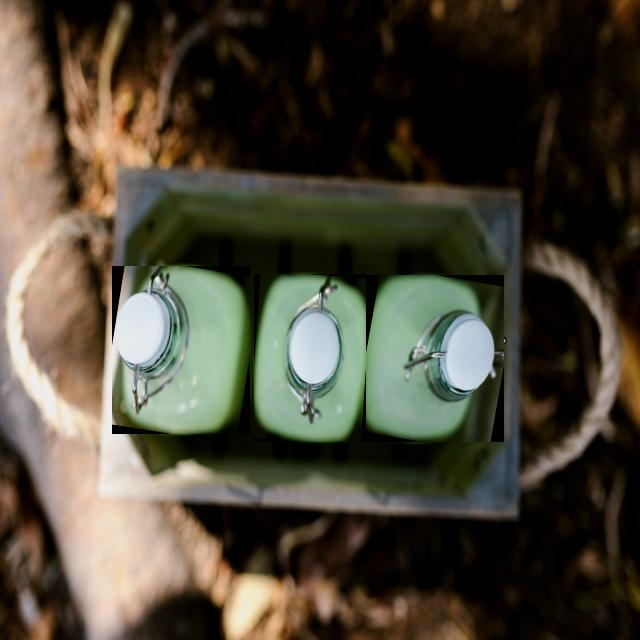Bottle: (113, 266, 250, 434), (367, 276, 504, 441), (255, 275, 365, 441)
